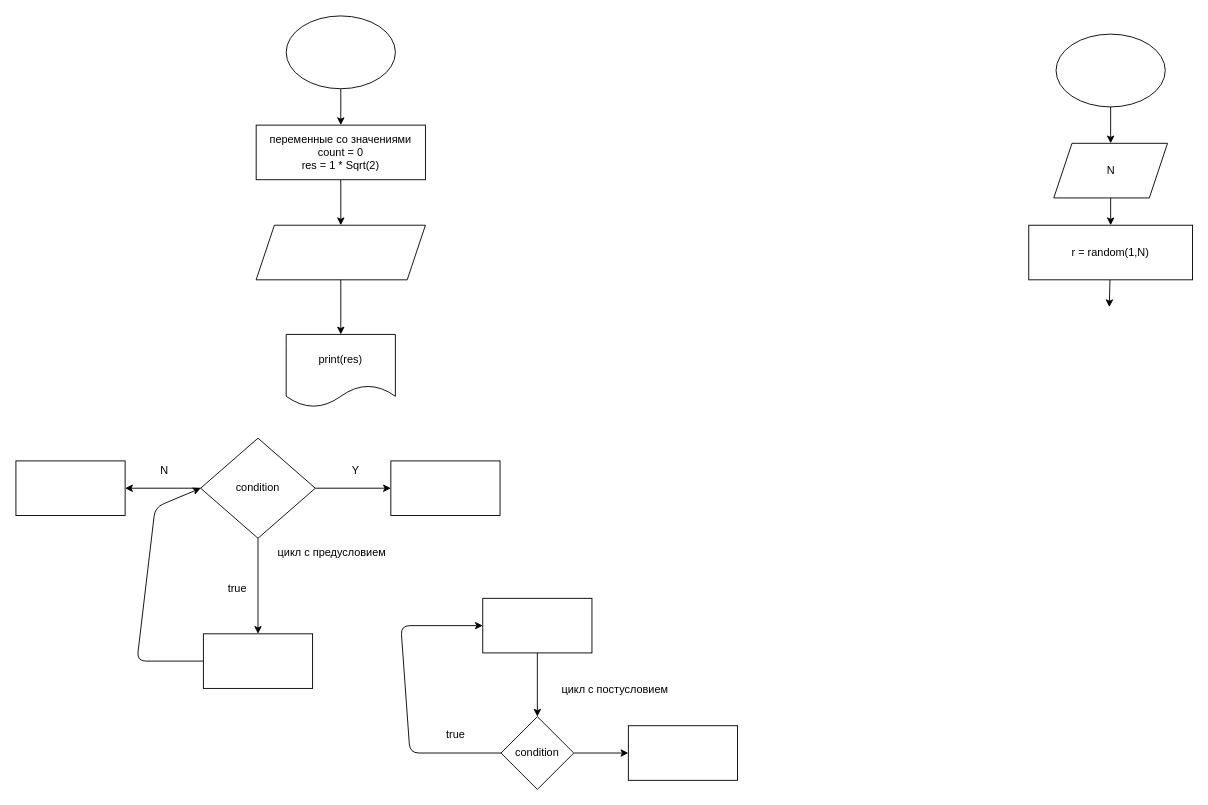
Some shapes in this 1208 by 805 pixel diagram are drawn without their labels. The centre of each missing label's shape, as x and y in pixels:
"Start" belongs at (1110,70).
"Start End" belongs at (340,52).
"Ввод Count" belongs at (340,252).
